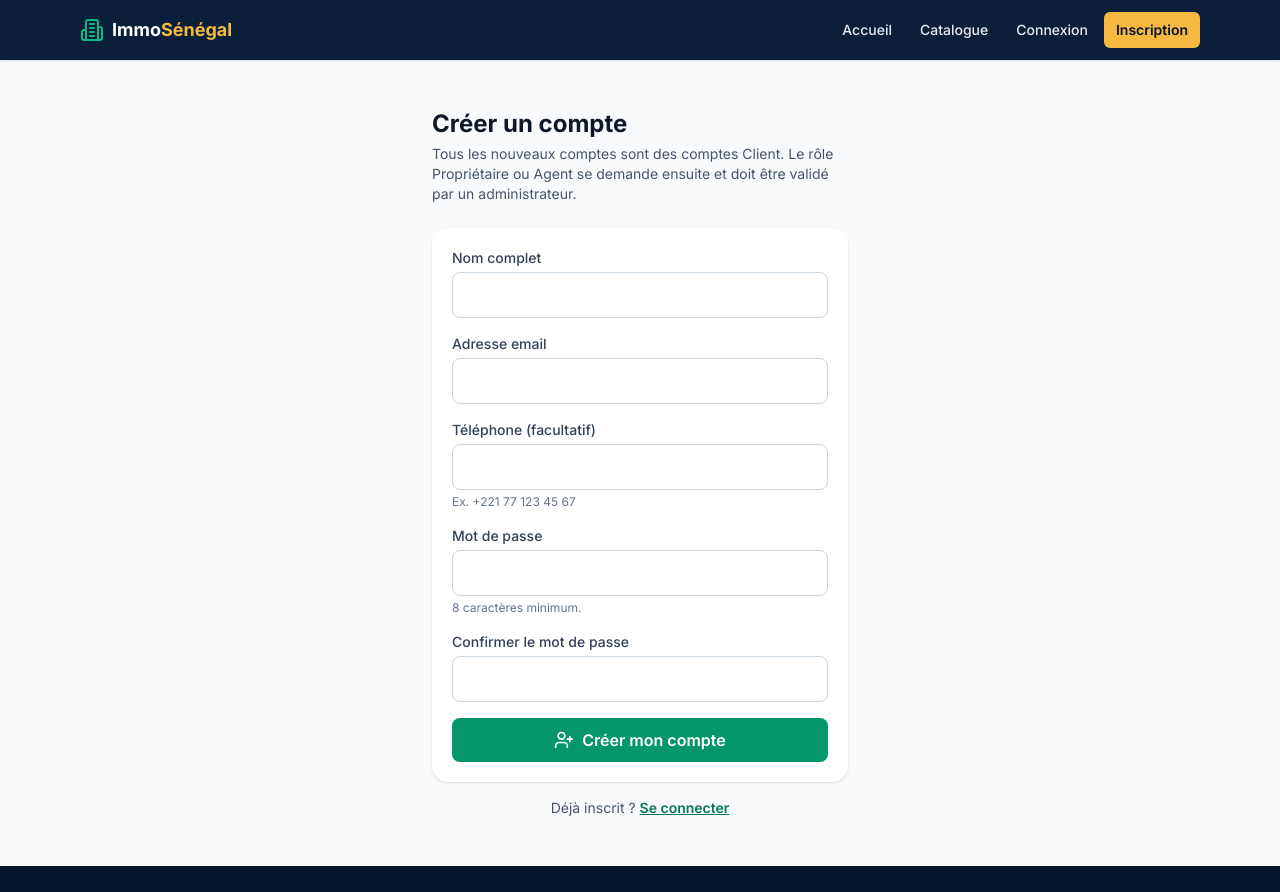
Test case: Inscription › refuse un mot de passe de moins de 8 caractères (7 caractères)
Type "Khady" into the field labelled "Nom complet".
click(640, 295); type("Khady")  # box [452,272,828,318]
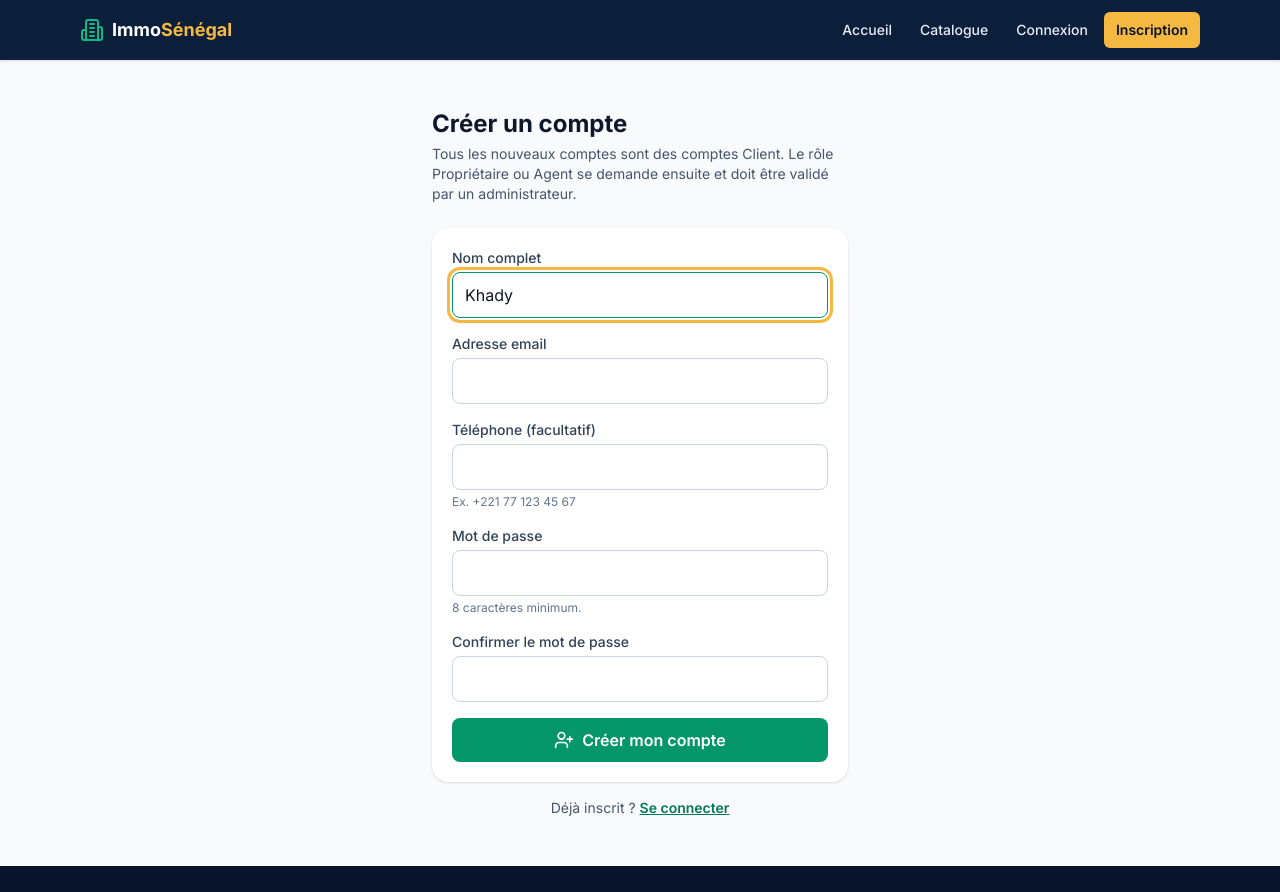
Type "khady@example.test" into the field labelled "Adresse email".
click(640, 381); type("khady@example.test")  # box [452,358,828,404]
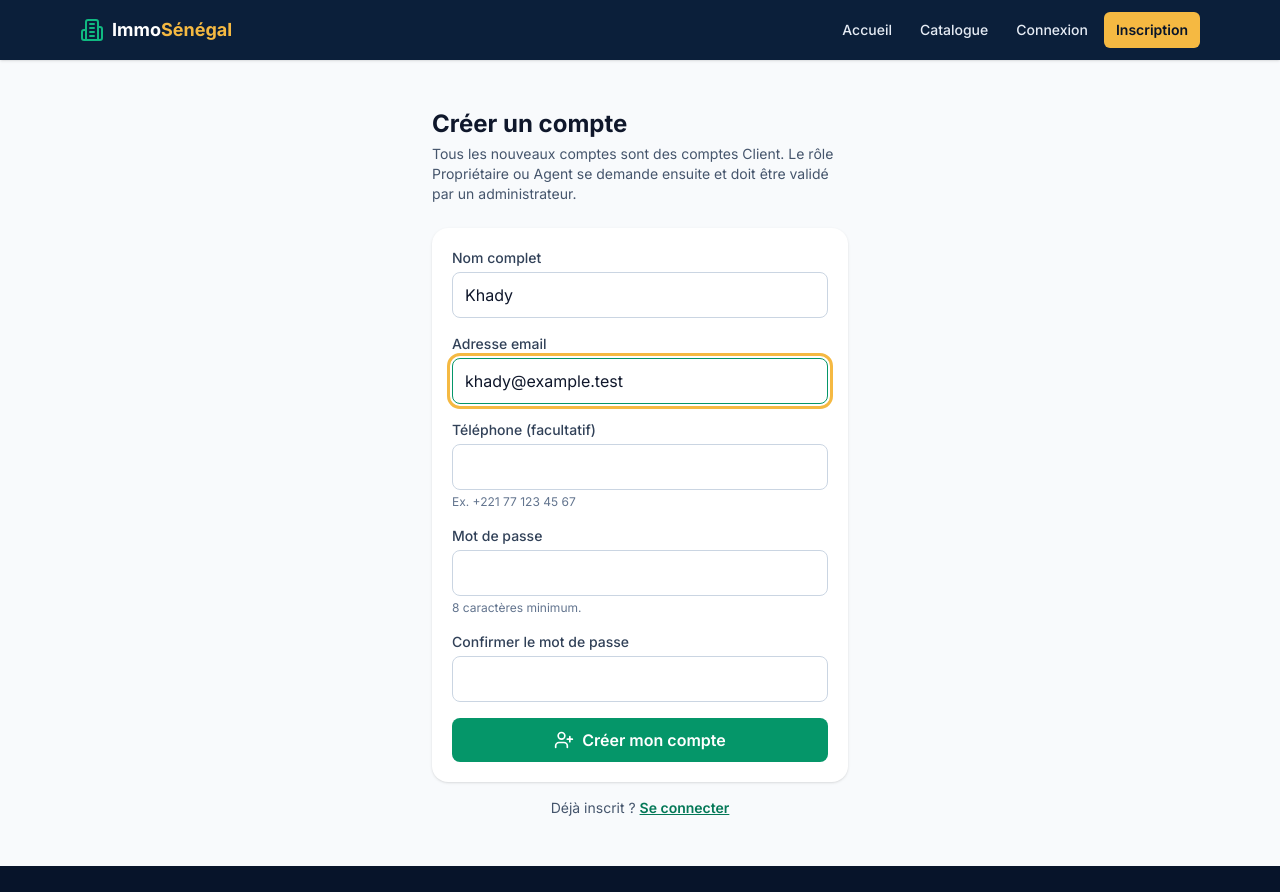
Type "Abcd123" into the password field labelled "Mot de passe".
click(640, 573); type("Abcd123")  # box [452,550,828,596]
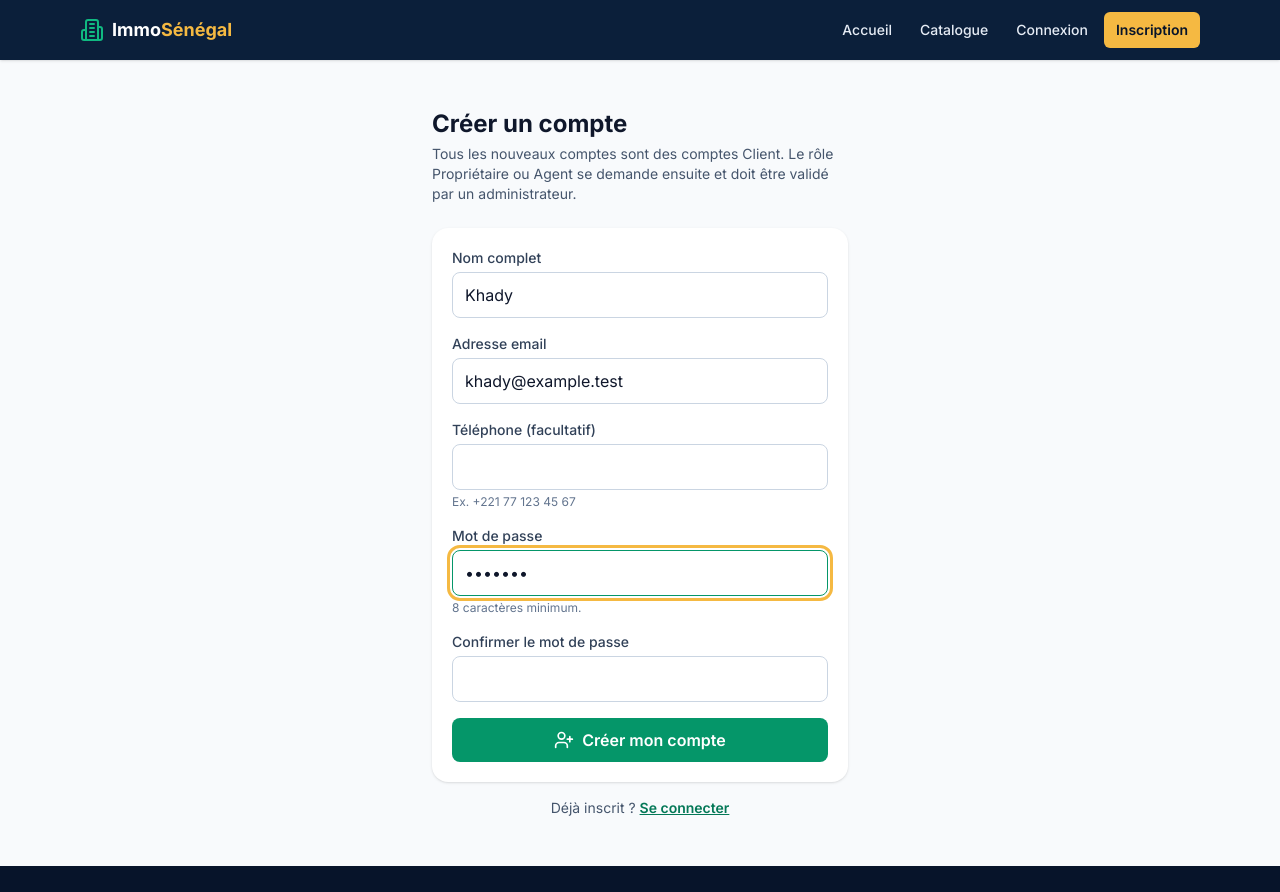
Type "Abcd123" into the password field labelled "Confirmer le mot de passe".
click(640, 679); type("Abcd123")  # box [452,656,828,702]
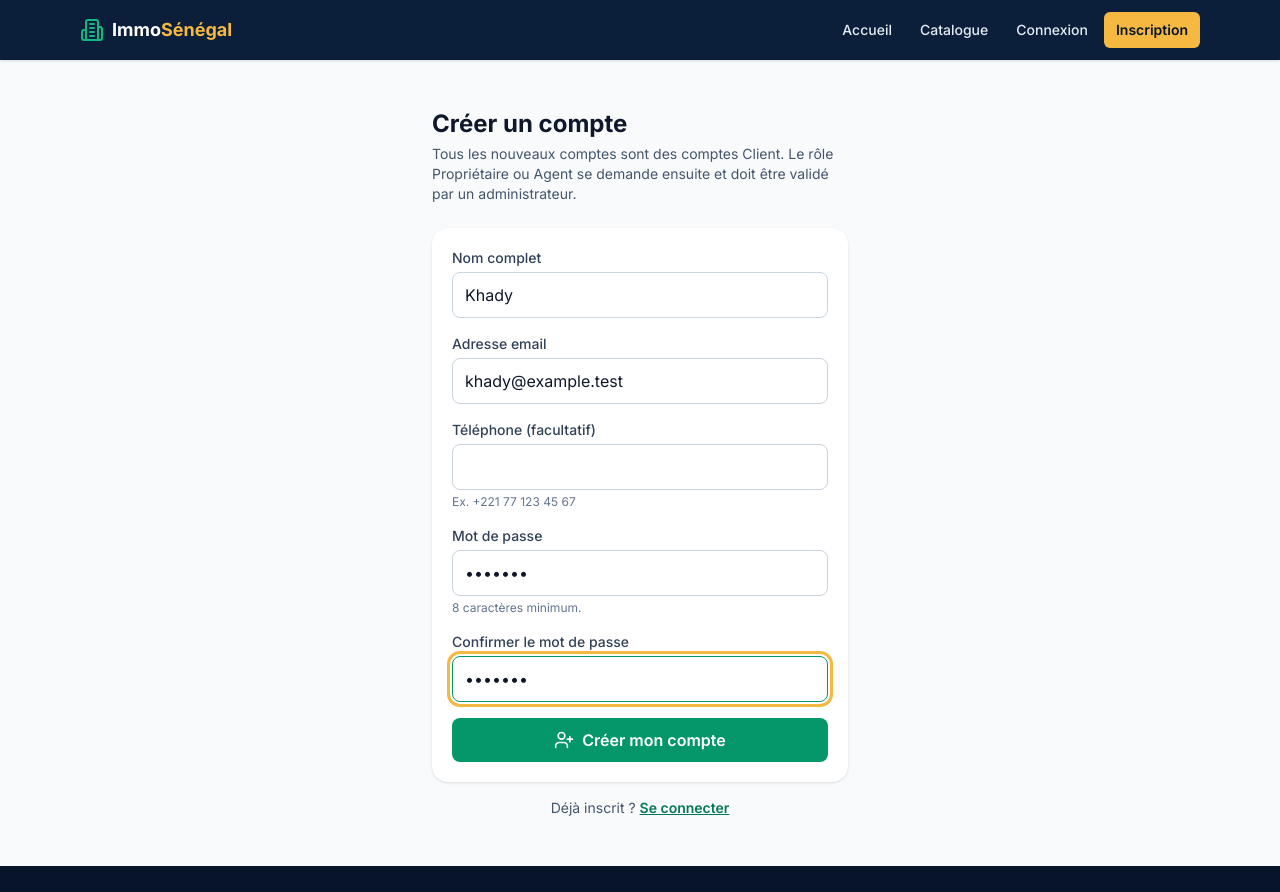
Click the button "Créer mon compte".
click(640, 740)  # box [452,718,828,762]
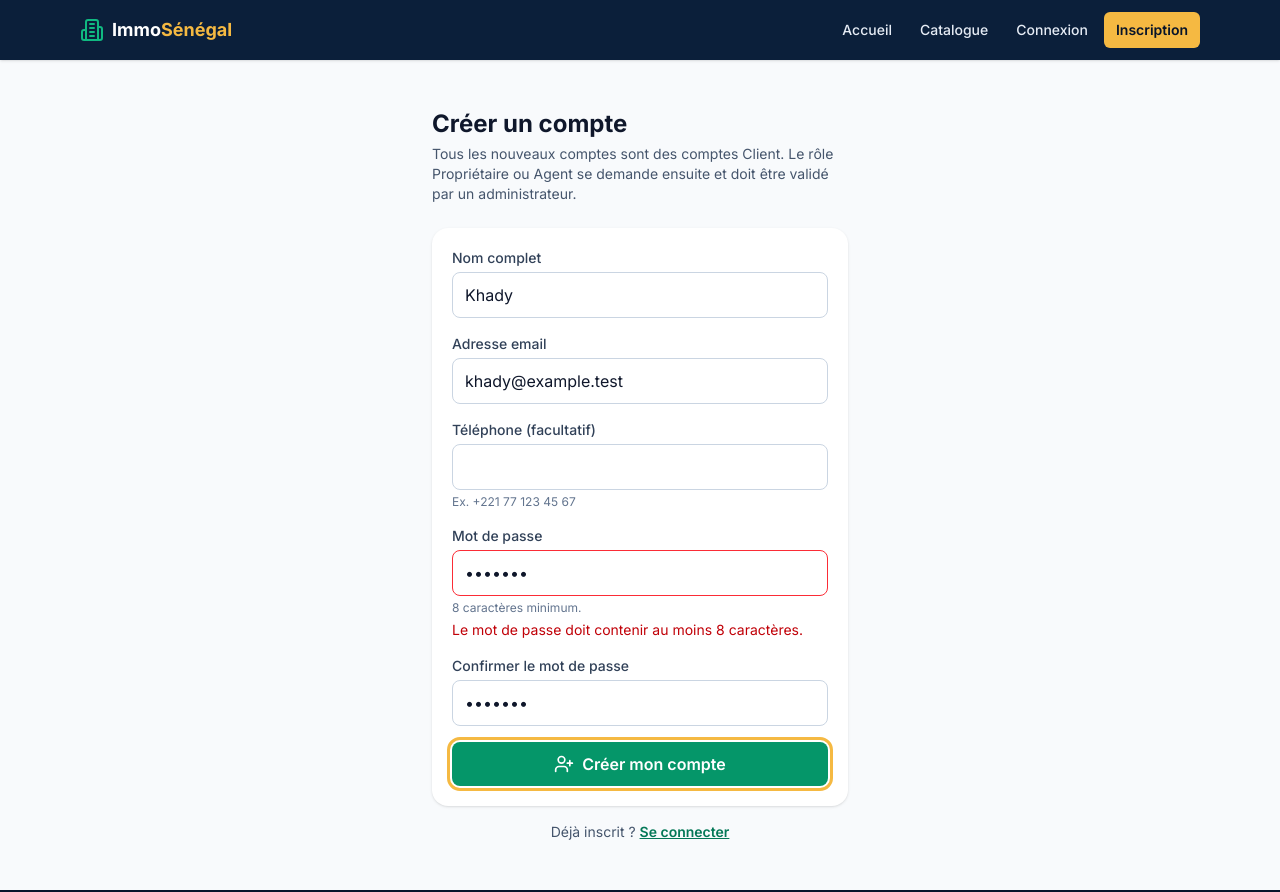
Result: the text "Le mot de passe doit contenir au moins 8 caractères." is shown at [452,620,828,640]
